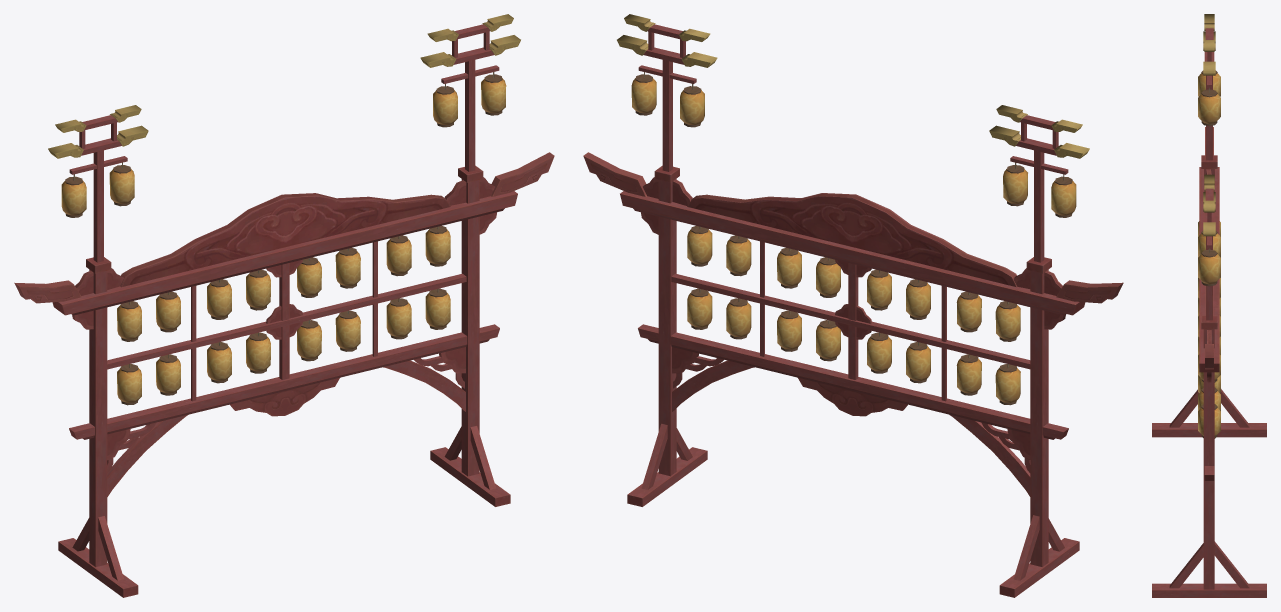
Rendered from Homeworld_Exterior_Ly_Lamp_Build_LanternRiteBigshelf_01_Lod0.fbx.
The picture shows the model from 3 angles, left to right: view 1: azimuth 30°, elevation 25°; view 2: azimuth 150°, elevation 25°; view 3: azimuth 270°, elevation 25°; orthographic projection. The views are drawn at different scales.
Visible parts, largest first — view 1: Area_Ly_Prop_LYG_Common_Shelf_04_Lod0; view 2: Area_Ly_Prop_LYG_Common_Shelf_04_Lod0; view 3: Area_Ly_Prop_LYG_Common_Shelf_04_Lod0.
Boxes of the visible parts, x1,y1,x2,y2 form: Area_Ly_Prop_LYG_Common_Shelf_04_Lod0: (14, 14, 554, 597); Area_Ly_Prop_LYG_Common_Shelf_04_Lod0: (583, 14, 1123, 597); Area_Ly_Prop_LYG_Common_Shelf_04_Lod0: (1152, 14, 1266, 597).
Bounding box in the file's own units: 15.24 × 12.39 × 3.2.
